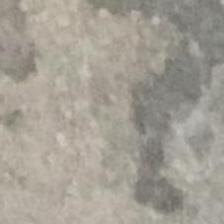Non_Crack: (21, 30, 201, 182)
